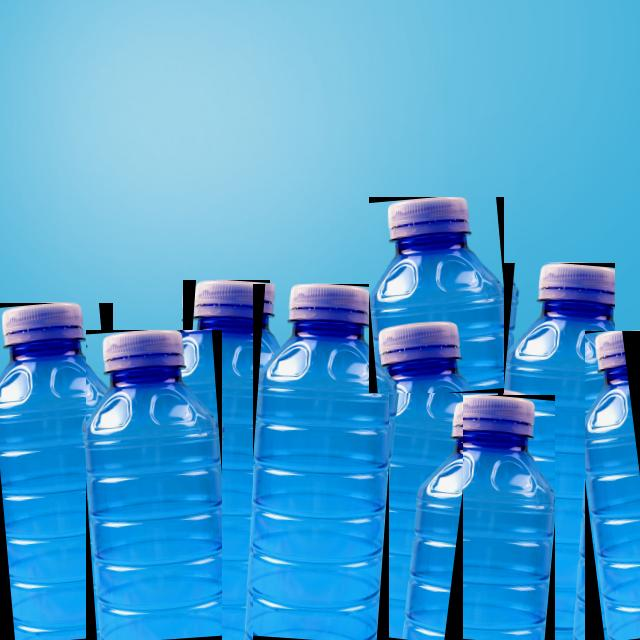Bottle: (253, 285, 388, 639), (499, 263, 614, 639), (86, 331, 222, 639), (0, 304, 112, 639), (420, 395, 555, 639), (183, 280, 270, 639), (375, 322, 462, 639), (369, 198, 504, 393), (586, 332, 639, 639)
